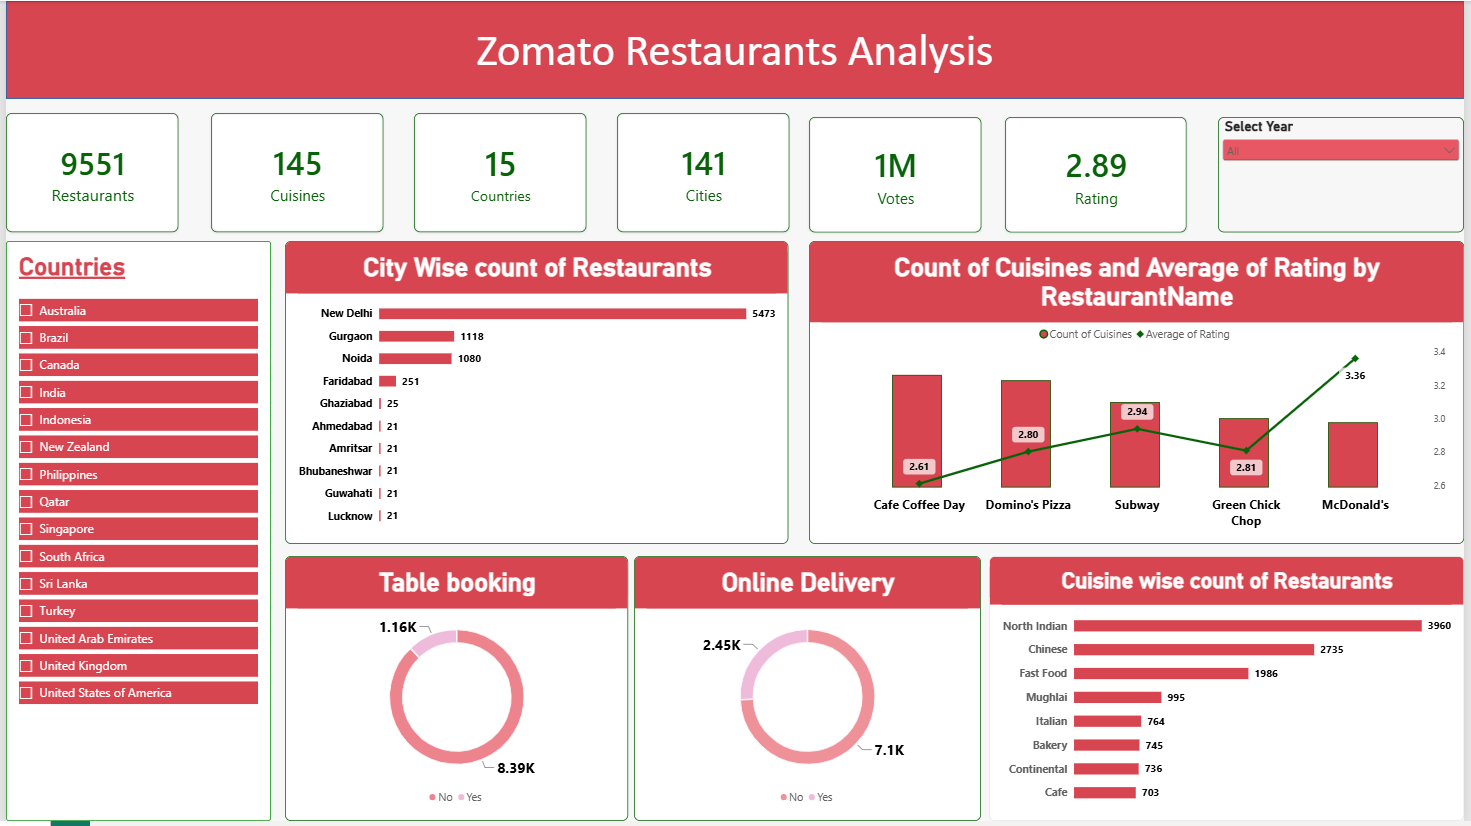

What the dashboard file says about the page in this screenshot:
{"tool":"powerbi","page":{"name":"Page 1","canvas":[1920,1080],"ordinal":0},"visuals":[{"type":"shape","box":[0,0,1920.1,128.9],"z":0},{"type":"cardVisual","fields":{"Data":["CountNonNull(Sheet1.RestaurantID)"]},"box":[0,147.7,227.4,157.1],"z":1000},{"type":"cardVisual","fields":{"Data":["Count(CuisineTable.All Cuisines)"]},"box":[269.6,147.7,227.4,157.1],"z":2000},{"type":"cardVisual","fields":{"Data":["Count(Sheet1.City)"]},"box":[804.2,147.7,227.4,157.1],"z":3000},{"type":"cardVisual","fields":{"Data":["Sum(Sheet1.Votes)"]},"box":[1057.4,152.4,227.4,152.4],"z":4000},{"type":"cardVisual","fields":{"Data":["Avg(Sheet1.Rating)"]},"box":[1315.3,152.4,239.1,152.4],"z":5000},{"type":"cardVisual","fields":{"Data":["Count(Sheet1.CountryName)"]},"box":[536.9,147.7,227.4,157.1],"z":6000},{"type":"slicer","fields":{"Values":["Sheet1.Year"]},"box":[1596.6,152.4,323.5,152.4],"z":7000},{"type":"listSlicer","fields":{"Values":["Sheet1.CountryName"]},"box":[0,316.5,349.3,764.3],"z":8000},{"type":"barChart","title":"City Wise count of Restaurants","fields":{"Category":["Sheet1.City"],"Y":["Count(Sheet1.RestaurantID)"]},"box":[368.1,316.5,663.5,398.6],"z":9000},{"type":"lineStackedColumnComboChart","fields":{"Y":["CountNonNull(Sheet1.Cuisines)"],"Category":["Sheet1.RestaurantName"],"Y2":["Avg(Sheet1.Rating)"]},"box":[1057.4,316.5,862.8,398.6],"z":10000},{"type":"donutChart","title":"Table booking","fields":{"Category":["Sheet1.Has_Table_booking"],"Y":["CountNonNull(Sheet1.RestaurantID)"]},"box":[368.1,731.5,452.5,349.3],"z":11000},{"type":"donutChart","title":"Online Delivery","fields":{"Category":["Sheet1.Has_Online_delivery"],"Y":["CountNonNull(Sheet1.RestaurantID)"]},"box":[827.6,731.5,457.2,349.3],"z":12000},{"type":"barChart","title":"Cuisine wise count of Restaurants","fields":{"Category":["CuisineTable.All Cuisines"],"Y":["CountNonNull(CuisineTable.RestaurantID)"]},"box":[1294.2,731.5,626,349.3],"z":13000}]}

Visuals, with their boxes in screenshot pixels (x1, y1, x2, y2), scaled from the page's 1920x1080 canvas onto the 1471x826 screenshot:
shape: region(0, 0, 1470, 99)
cardVisual - CountNonNull(Sheet1.RestaurantID): region(0, 113, 174, 233)
cardVisual - Count(CuisineTable.All Cuisines): region(207, 113, 381, 233)
cardVisual - Count(Sheet1.City): region(616, 113, 790, 233)
cardVisual - Sum(Sheet1.Votes): region(810, 117, 984, 233)
cardVisual - Avg(Sheet1.Rating): region(1008, 117, 1191, 233)
cardVisual - Count(Sheet1.CountryName): region(411, 113, 586, 233)
slicer - Sheet1.Year: region(1223, 117, 1470, 233)
listSlicer - Sheet1.CountryName: region(0, 242, 268, 825)
"City Wise count of Restaurants" barChart: region(282, 242, 790, 547)
lineStackedColumnComboChart - CountNonNull(Sheet1.Cuisines) x Sheet1.RestaurantName: region(810, 242, 1470, 547)
"Table booking" donutChart: region(282, 559, 629, 825)
"Online Delivery" donutChart: region(634, 559, 984, 825)
"Cuisine wise count of Restaurants" barChart: region(992, 559, 1470, 825)
